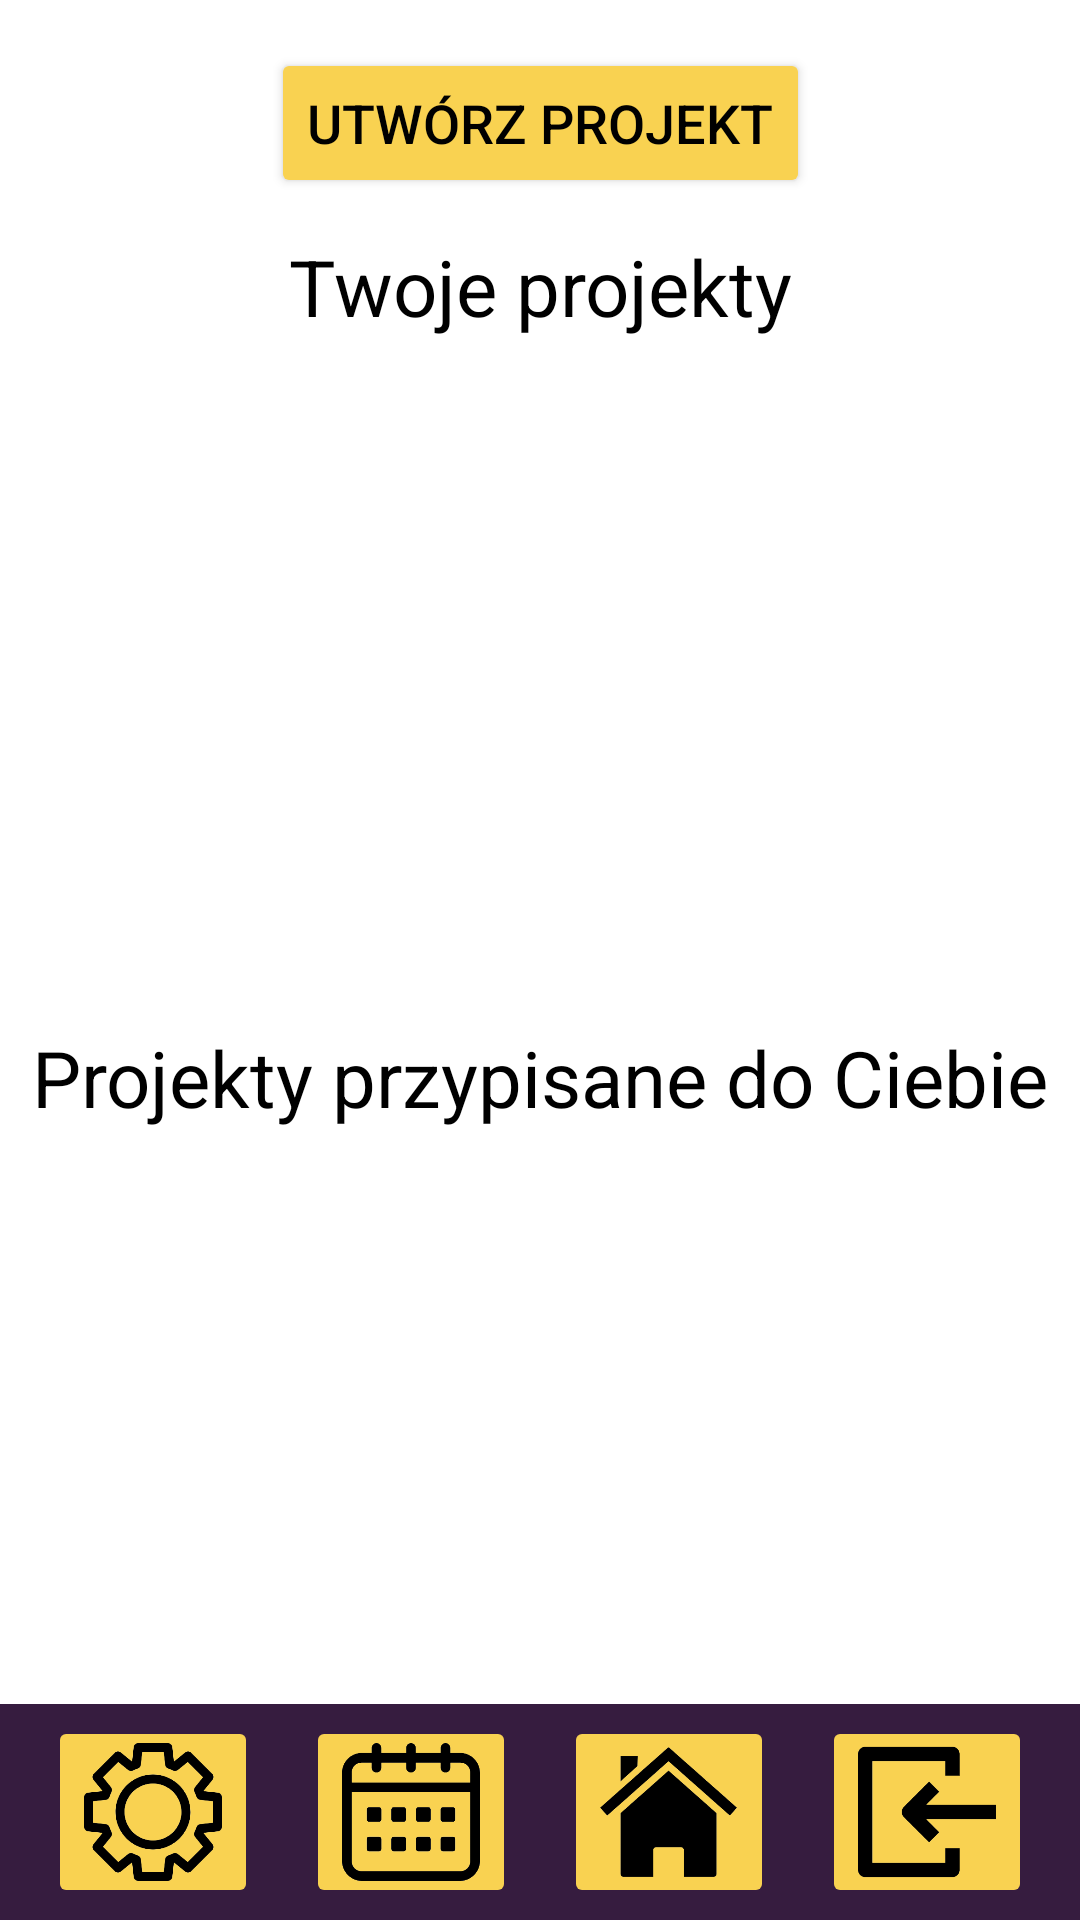

Screen size 1080x1920. Icon name, then its center in pixels as point (x, y):
calendar: point (411, 1812)
home: point (669, 1812)
settings: point (153, 1812)
